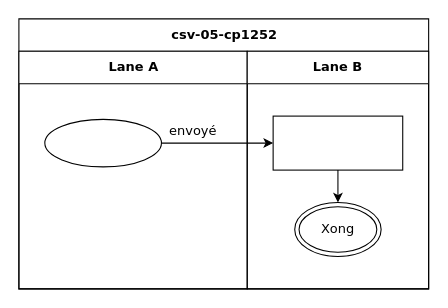
Some shapes in this 448 by 308 pixel diagram are drawn without their labels. The centre of each missing label's shape, as x and y in pixels:
"Démarrer" goes at [102,142].
"Traité" goes at [337,142].
